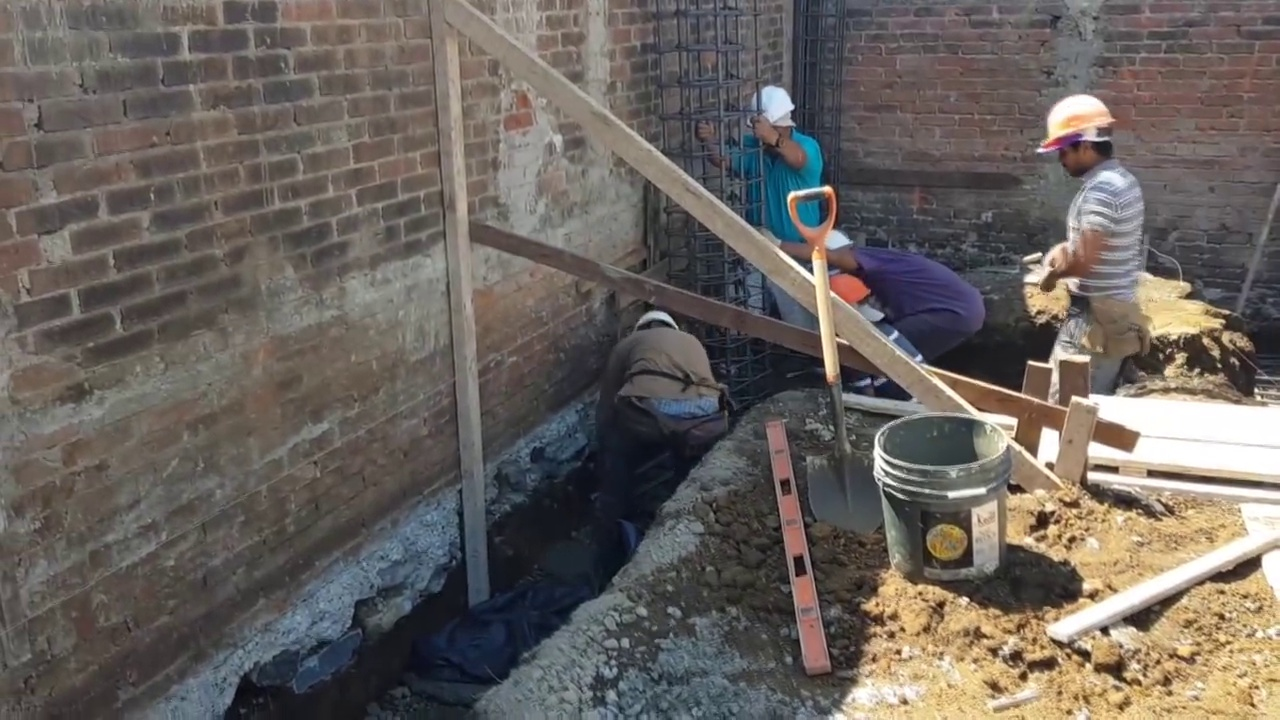helmet: (1031, 94, 1118, 157), (754, 85, 800, 125), (829, 275, 870, 303), (822, 227, 854, 252)
helmet-on: (1030, 93, 1121, 181), (745, 85, 800, 146), (829, 276, 884, 325), (631, 307, 680, 341)
person: (1031, 89, 1151, 439), (706, 90, 833, 327), (758, 222, 984, 353), (586, 309, 727, 507), (823, 274, 926, 399)
